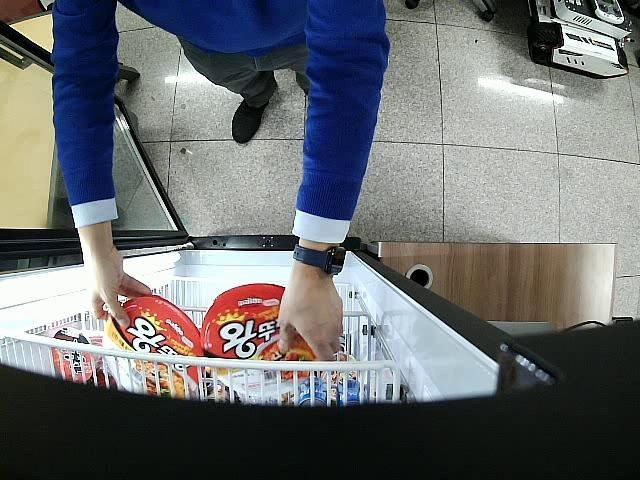10_wangTtukkeong: (201, 283, 318, 396), (103, 295, 206, 399)
